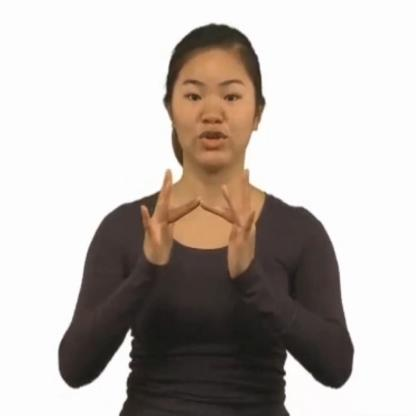Internet: (122, 151, 274, 305)
